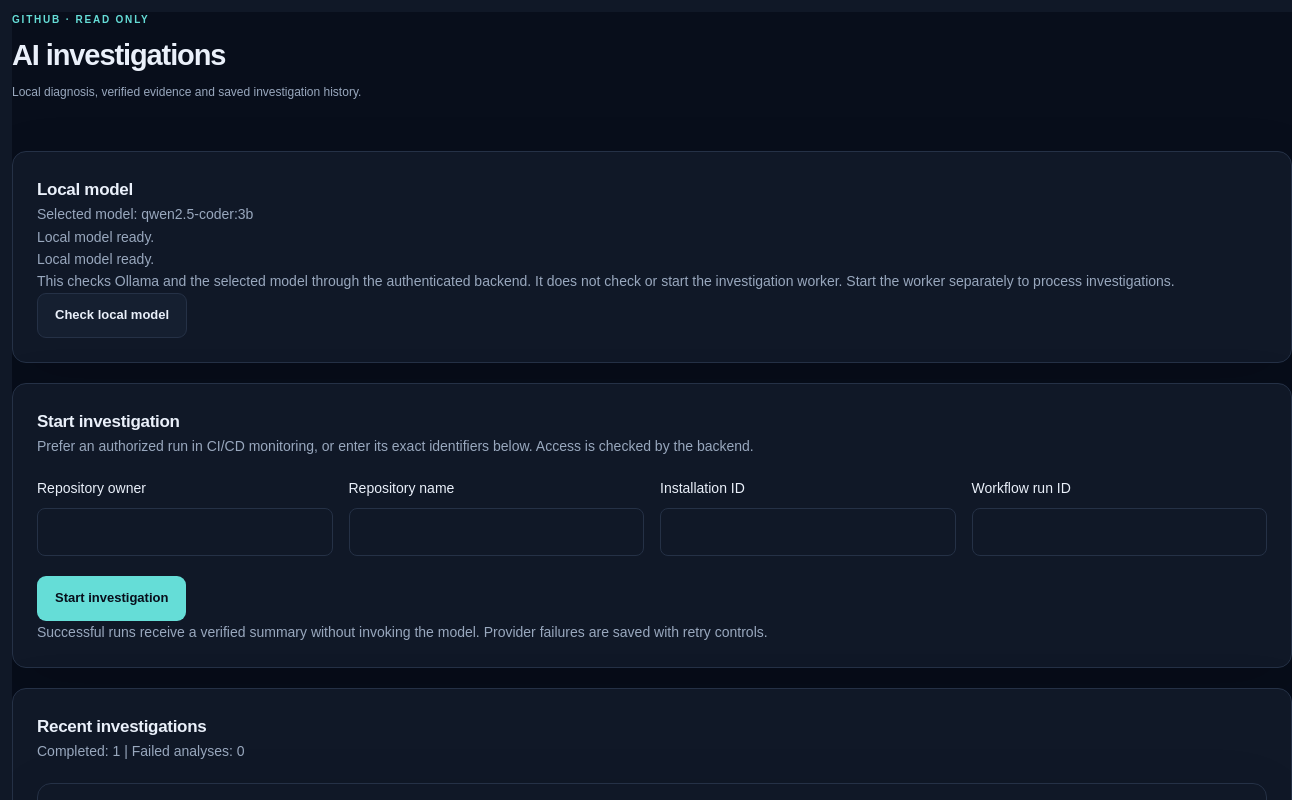
Test: shows authenticated status request errors and supports manual retry
The width and height of the screenshot is (1292, 800).
Expected: the text "Selected model: qwen2.5-coder:3b" is shown, x1=37 y1=206 x2=253 y2=222
Step 1. Click the button "Check local model" → [112, 315], box x1=37 y1=293 x2=187 y2=338
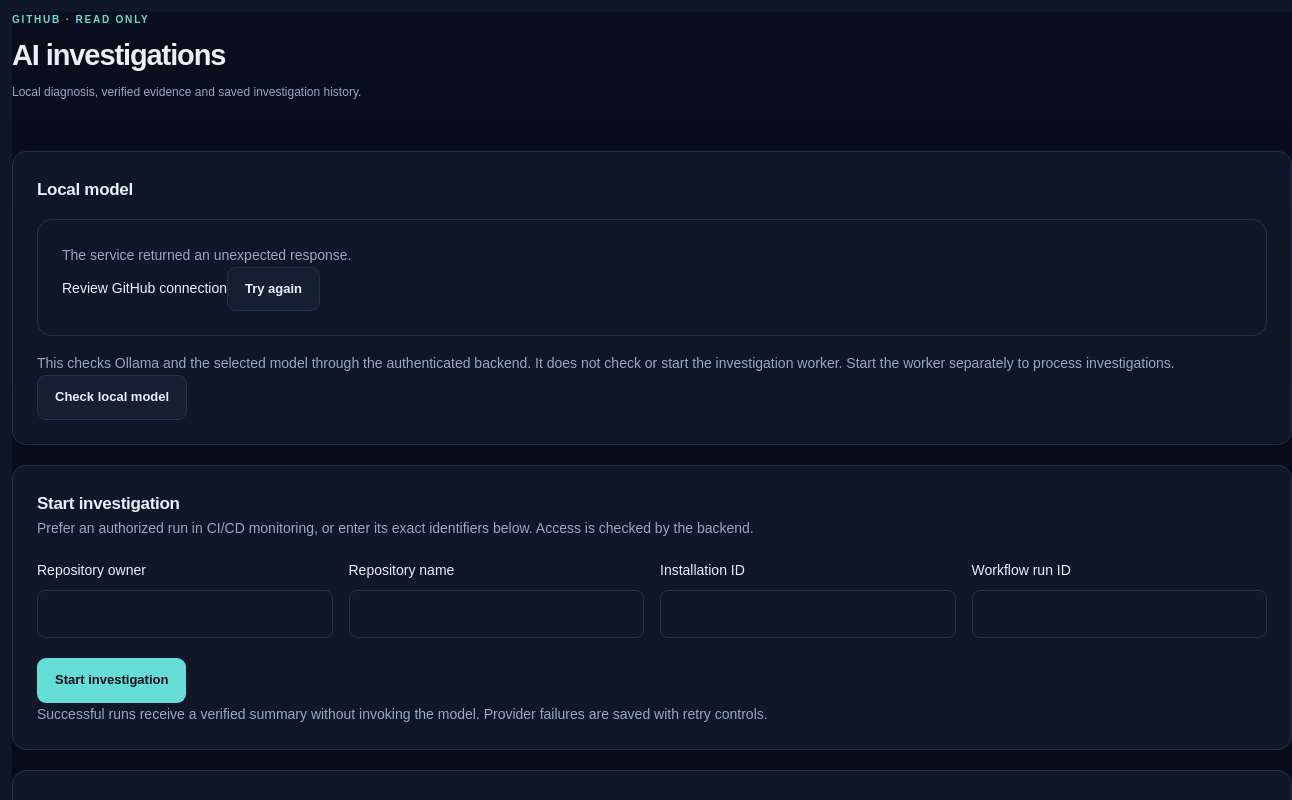
Result: the message shows "unexpected response" at x1=62 y1=247 x2=352 y2=263
Step 2. Click the button "Try again" → [274, 289], box x1=227 y1=267 x2=320 y2=311
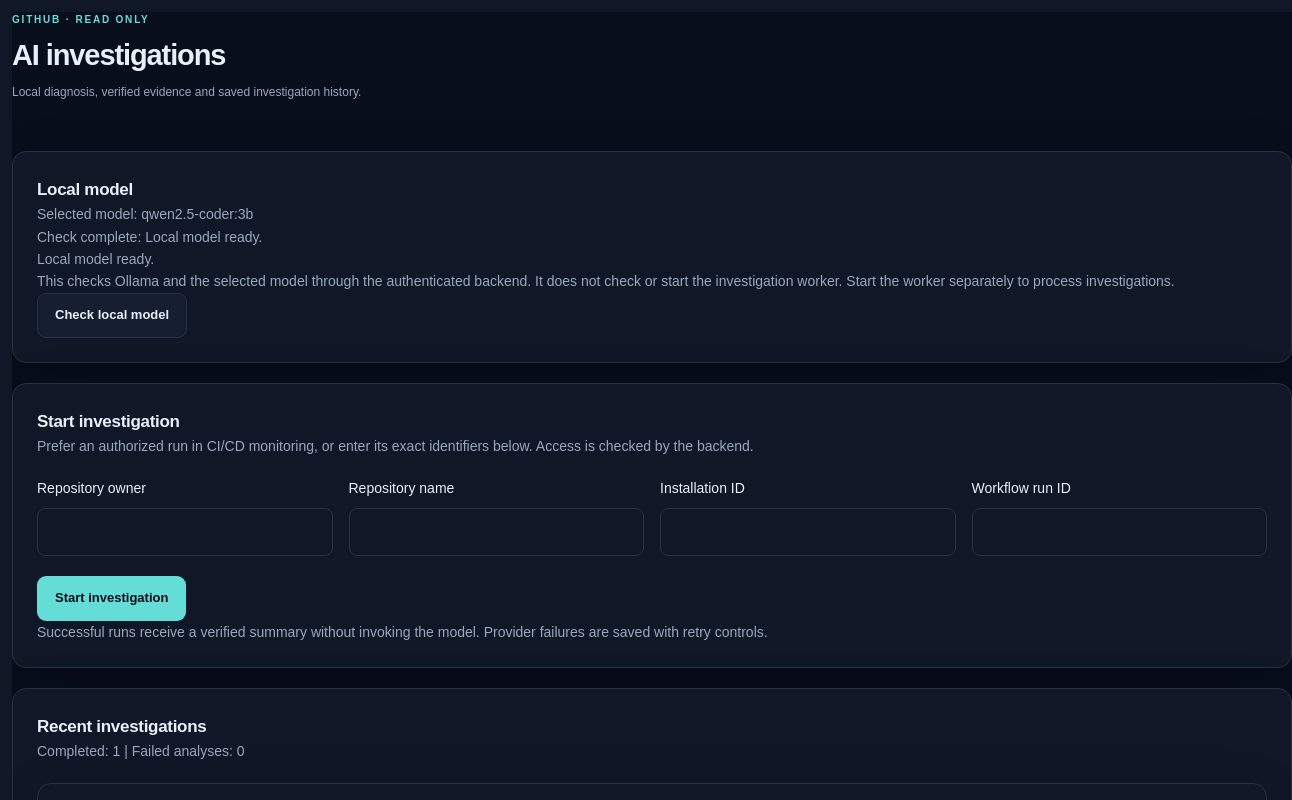
Result: the text "Check complete: Local model ready." is shown at x1=37 y1=229 x2=262 y2=245
